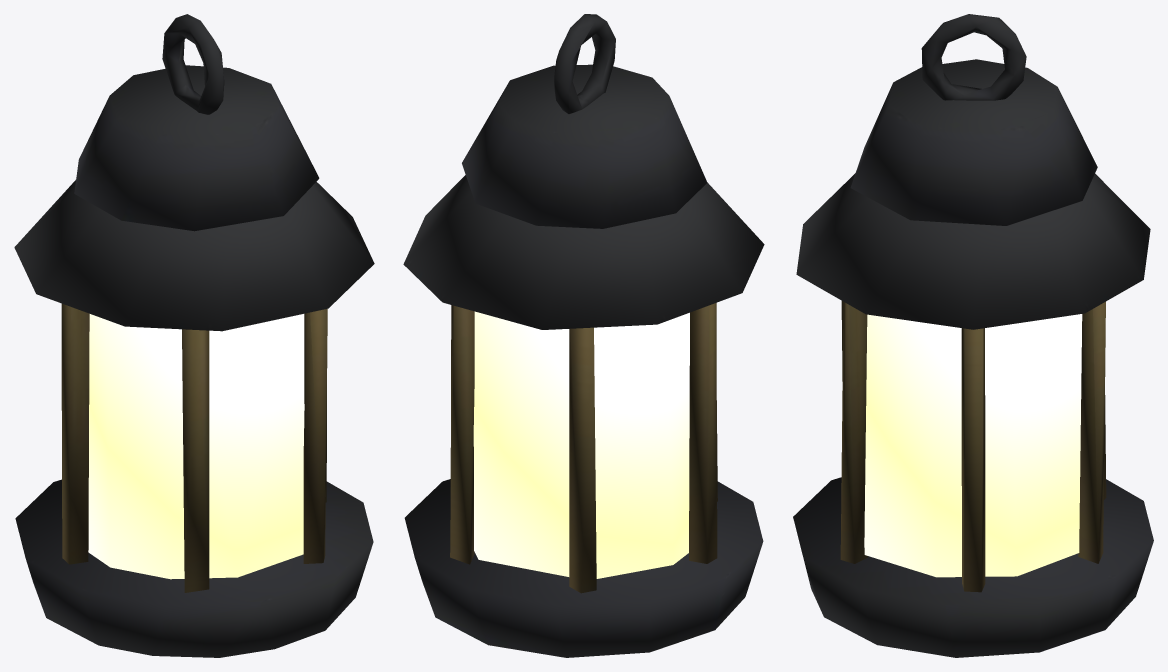
The model's file is ship_lantern_far.b81ff231.glb.
3 views of the same model, side by side, from view 1: azimuth 30°, elevation 25°; view 2: azimuth 150°, elevation 25°; view 3: azimuth 270°, elevation 25° (orthographic).
Parts seen in each view (by area): view 1: ship_lantern_body, glass; view 2: ship_lantern_body, glass; view 3: ship_lantern_body, glass.
Part boxes in pixels (left/top/right/bottom): ship_lantern_body: left=14, top=14, right=374, bottom=657; glass: left=88, top=314, right=304, bottom=579; ship_lantern_body: left=403, top=14, right=764, bottom=657; glass: left=473, top=311, right=689, bottom=578; ship_lantern_body: left=793, top=14, right=1153, bottom=657; glass: left=864, top=314, right=1082, bottom=577.
Size of the model in its own units: 0.3861 by 0.666 by 0.3783.
2 materials, 1 textured.
